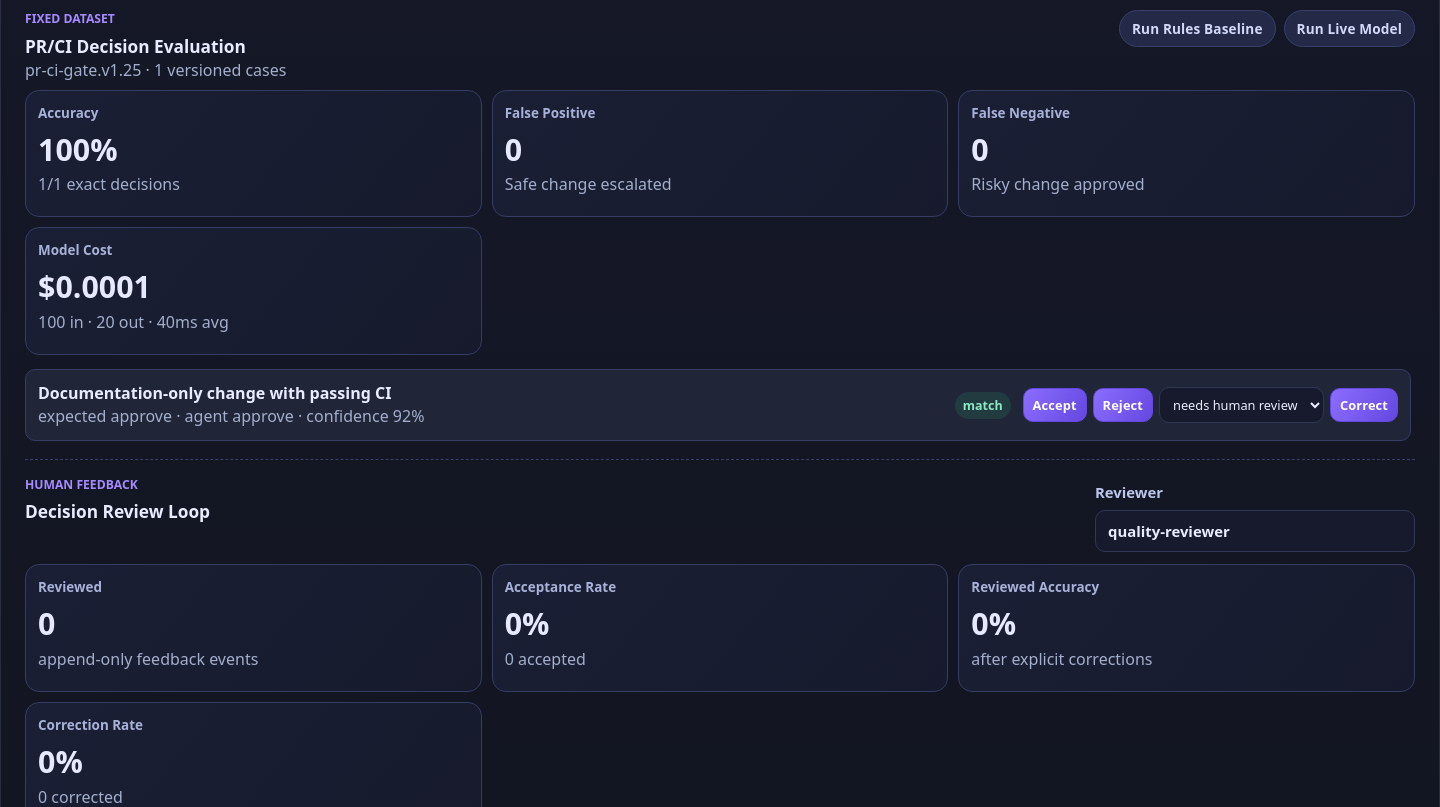
Test case: quality lab › explains protected feedback actions instead of silently disabling them
(page scrolled)
Click the button "Accept".
click(1055, 405)  # box [1023,388,1087,422]
(page scrolled)
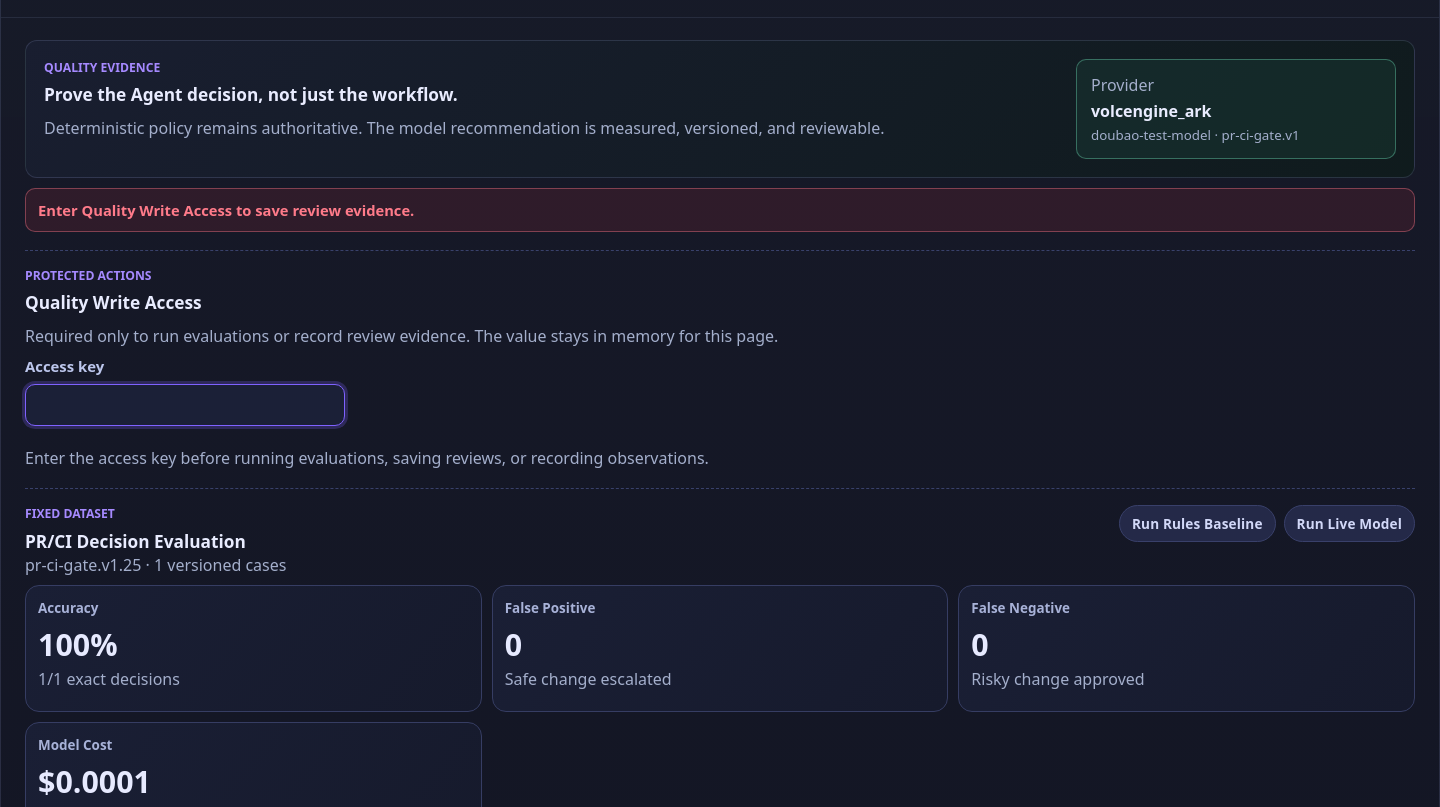
Result: the text "Enter Quality Write Access to save review evidence." is shown at [25,188,1415,232]
